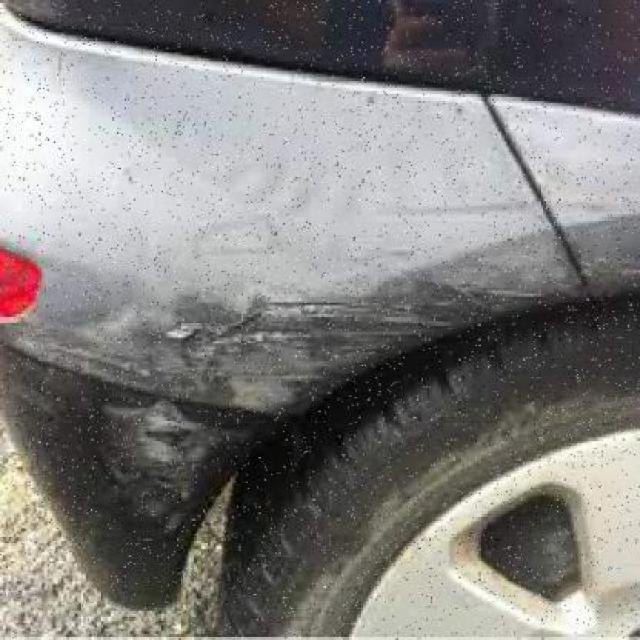rear-bumper-dent: (0, 34, 583, 610)
